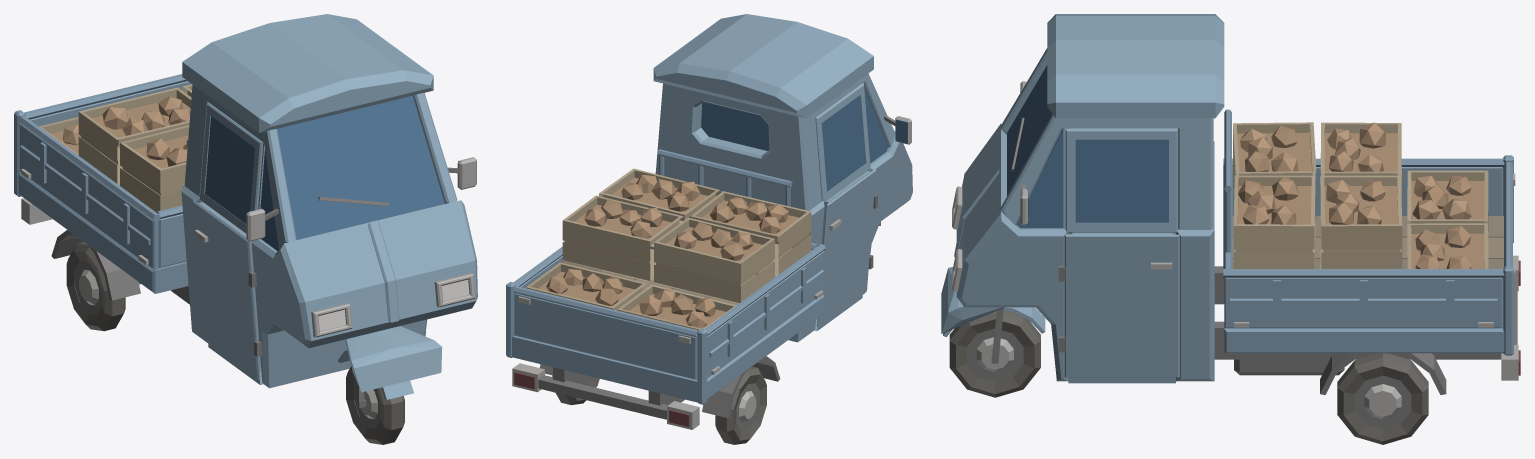
Rendered from truck.glb.
3 renders of one model, left to right at view 1: azimuth 30°, elevation 25°; view 2: azimuth 150°, elevation 25°; view 3: azimuth 270°, elevation 25°, orthographic. The views are drawn at different scales.
Parts seen in each view (by area): view 1: truck; view 2: truck; view 3: truck.
Boxes of the visible parts, left/top/right/bottom form: truck: left=14, top=14, right=477, bottom=444; truck: left=506, top=14, right=912, bottom=444; truck: left=941, top=14, right=1520, bottom=444.
Bounding box in the file's own units: 1.44 × 2.04 × 3.01.
